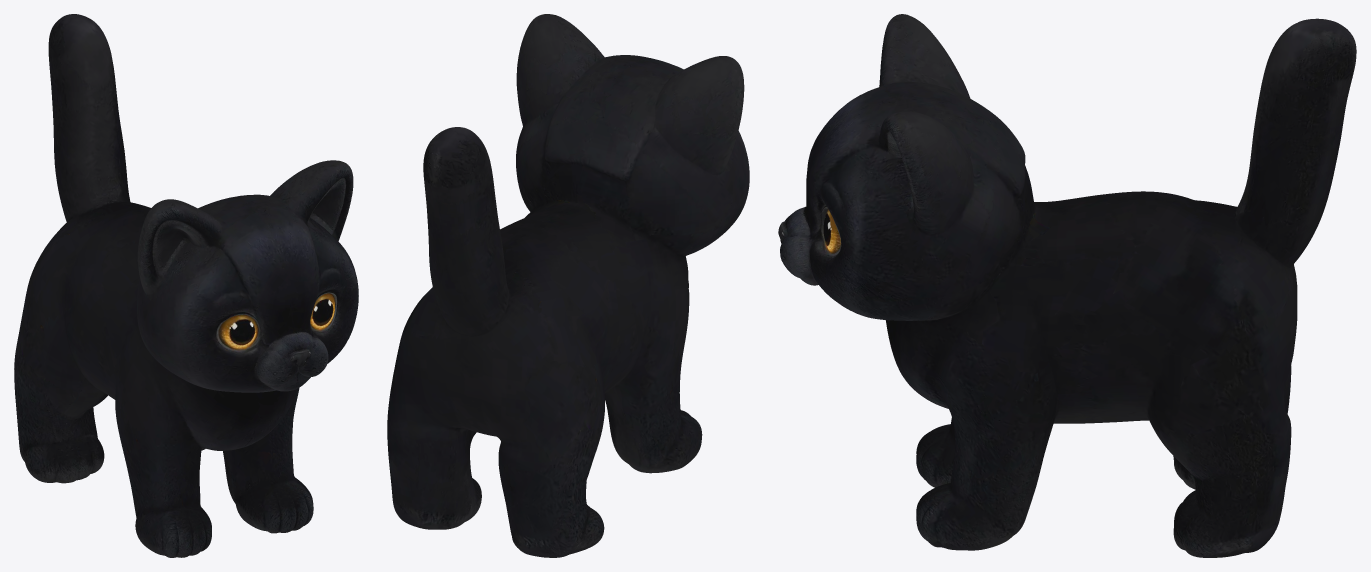
The model's file is meshy-bombay.glb.
The picture shows the model from 3 angles, left to right: view 1: azimuth 30°, elevation 25°; view 2: azimuth 150°, elevation 25°; view 3: azimuth 270°, elevation 25°; orthographic projection. The views are drawn at different scales.
Visible parts, largest first — view 1: Mesh_0; view 2: Mesh_0; view 3: Mesh_0.
Boxes of the visible parts, x1,y1,x2,y2 form: Mesh_0: (14, 14, 358, 557); Mesh_0: (387, 14, 749, 557); Mesh_0: (778, 14, 1356, 557).
Bounding box in the file's own units: 0.9531 × 1.76 × 1.9.
Materials: 1 (1 with a texture image).
